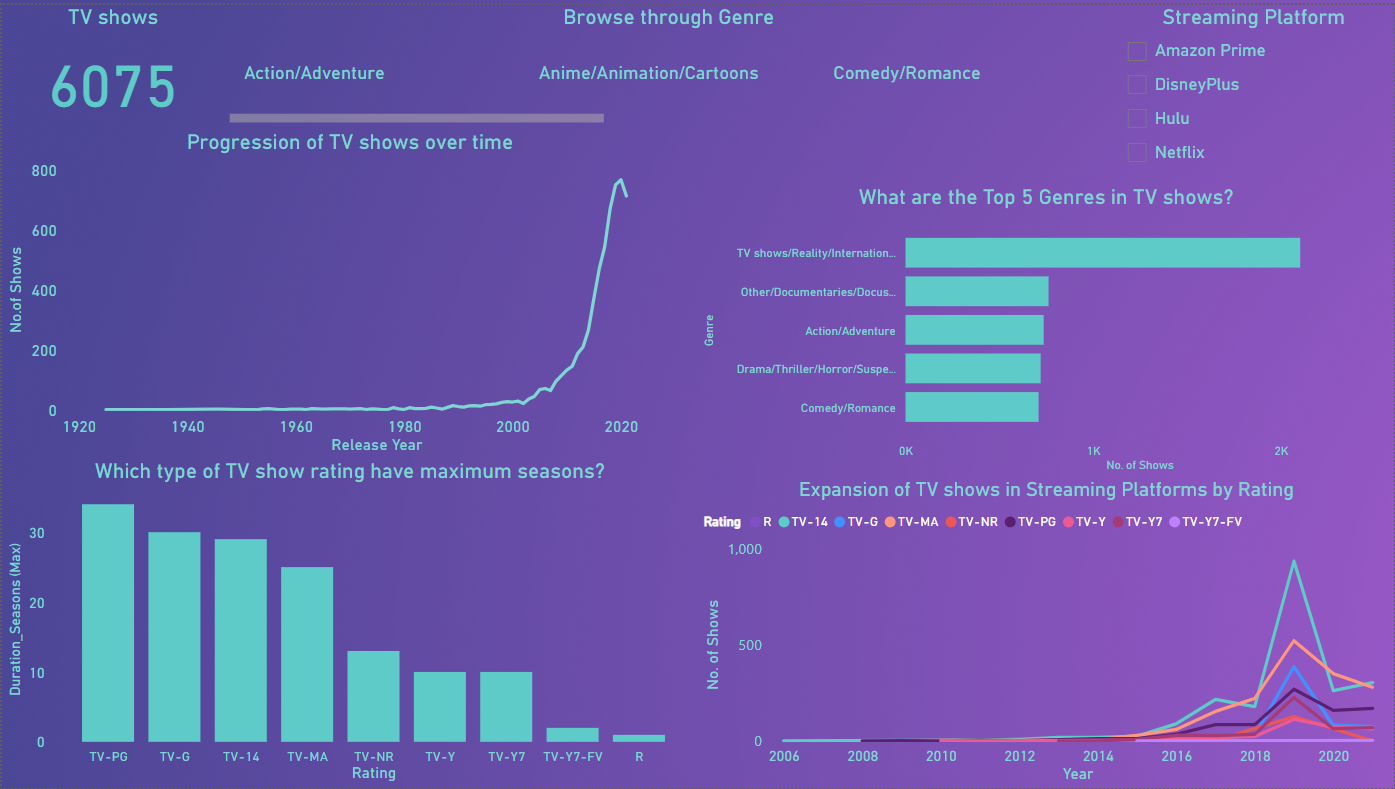

What the dashboard file says about the page in this screenshot:
{"tool":"powerbi","page":{"name":"TV Shows","canvas":[1280,720],"ordinal":0},"visuals":[{"type":"card","title":"TV shows","fields":{"Values":["CountNonNull(TV_shows_clean_final.streaming_platform)"]},"box":[0,0,204.6,114.9],"z":0},{"type":"advancedSlicerVisual","fields":{"Values":["TV_shows_clean_final.Genre"]},"box":[204.6,0,817.2,114.9],"z":1000},{"type":"slicer","title":"Streaming Platform","fields":{"Values":["TV_shows_clean_final.streaming_platform"]},"box":[1021.8,0,258.6,165.5],"z":2000},{"type":"lineChart","title":"Progression of TV shows over time","fields":{"Category":["TV_shows_clean_final.release_year"],"Y":["CountNonNull(TV_shows_clean_final.title)"]},"box":[0,114.9,640.2,302.3],"z":3000},{"type":"clusteredBarChart","title":"What are the Top 5 Genres in TV shows?","fields":{"Category":["TV_shows_clean_final.Genre"],"Y":["CountNonNull(TV_shows_clean_final.title)"]},"box":[640.2,165.5,640.2,269],"z":4000},{"type":"clusteredColumnChart","title":"Which type of TV show rating have maximum seasons?","fields":{"Category":["TV_shows_clean_final.rating"],"Y":["Max(TV_shows_clean_final.duration_seasons)"]},"box":[0,417.2,640.2,302.3],"z":5000},{"type":"lineChart","title":"Expansion of TV shows in Streaming Platforms by Rating","fields":{"Category":["TV_shows_clean_final.date_added.Variation.Date Hierarchy.Year","TV_shows_clean_final.date_added.Variation.Date Hierarchy.Quarter","TV_shows_clean_final.date_added.Variation.Date Hierarchy.Month","TV_shows_clean_final.date_added.Variation.Date Hierarchy.Day"],"Series":["TV_shows_clean_final.rating"],"Y":["CountNonNull(TV_shows_clean_final.title)"]},"box":[640.2,434.5,640.2,285.1],"z":6000}]}

Visuals, with their boxes in screenshot pixels (x1, y1, x2, y2), scaled from the page's 1280x720 canvas onto the 1395x789 screenshot:
"TV shows" card: 0:0:223:126
advancedSlicerVisual - TV_shows_clean_final.Genre: 223:0:1114:126
"Streaming Platform" slicer: 1114:0:1394:181
"Progression of TV shows over time" lineChart: 0:126:698:457
"What are the Top 5 Genres in TV shows?" clusteredBarChart: 698:181:1394:476
"Which type of TV show rating have maximum seasons?" clusteredColumnChart: 0:457:698:788
"Expansion of TV shows in Streaming Platforms by Rating" lineChart: 698:476:1394:788
